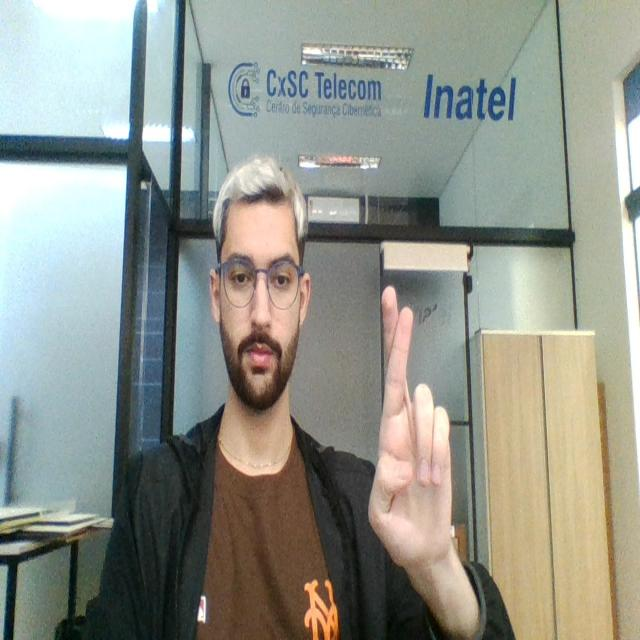R: (362, 277, 462, 569)
